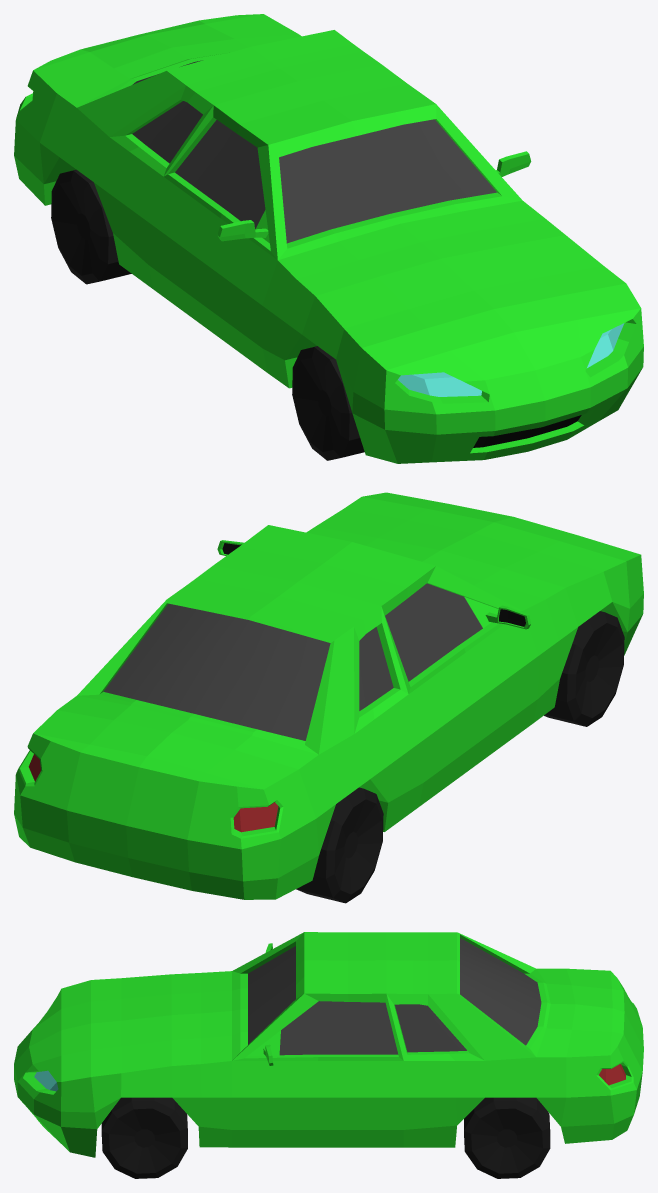
The model's file is 5green.fbx.
3 renders of one model, top to bottom at view 1: azimuth 30°, elevation 25°; view 2: azimuth 150°, elevation 25°; view 3: azimuth 270°, elevation 25°, orthographic. The views are drawn at different scales.
Visible parts, largest first — view 1: Cube; view 2: Cube; view 3: Cube.
Part boxes in pixels (x1,y1,x2,y2): Cube: (14,14,643,463); Cube: (14,492,643,903); Cube: (14,932,643,1178).
Size of the model in its own units: 122 by 83.59 by 284.
